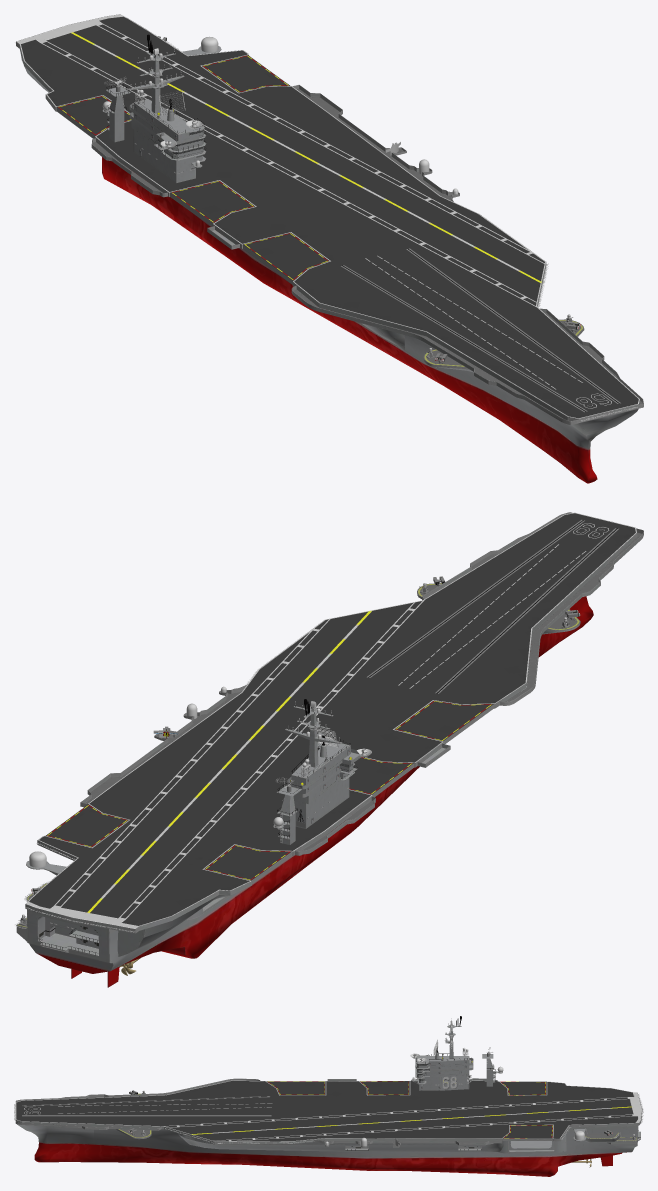
File: carrier.glb
The picture shows the model from 3 angles, top to bottom: view 1: azimuth 30°, elevation 25°; view 2: azimuth 150°, elevation 25°; view 3: azimuth 270°, elevation 25°; orthographic projection. The views are drawn at different scales.
Parts seen in each view (by area): view 1: Object_5, Object_7, Object_6, Object_4, Object_8, Object_10, Object_17; view 2: Object_5, Object_7, Object_6, Object_4, Object_8, Object_10, Object_17; view 3: Object_5, Object_7, Object_4, Object_6, Object_8, Object_10, Object_9, Object_17.
Boxes of the visible parts, box(x1,y1,x2,y2) form: Object_5: box(21, 14, 642, 418); Object_7: box(102, 157, 638, 483); Object_6: box(16, 14, 639, 418); Object_4: box(16, 42, 643, 424); Object_8: box(102, 46, 221, 182); Object_10: box(102, 34, 580, 364); Object_17: box(15, 41, 637, 421); Object_5: box(17, 513, 642, 928); Object_7: box(27, 596, 593, 987); Object_6: box(26, 512, 636, 928); Object_4: box(16, 512, 643, 956); Object_8: box(26, 706, 367, 875); Object_10: box(18, 576, 580, 954); Object_17: box(15, 583, 567, 932); Object_5: box(16, 1080, 642, 1146); Object_7: box(17, 1124, 640, 1176); Object_4: box(15, 1078, 642, 1153); Object_6: box(15, 1080, 642, 1141); Object_8: box(411, 1024, 586, 1141); Object_10: box(128, 1016, 640, 1149); Object_9: box(417, 1063, 469, 1090); Object_17: box(14, 1038, 643, 1146).
Size of the model in its own units: 76.69 by 65.21 by 304.
9 materials, 9 textured.
